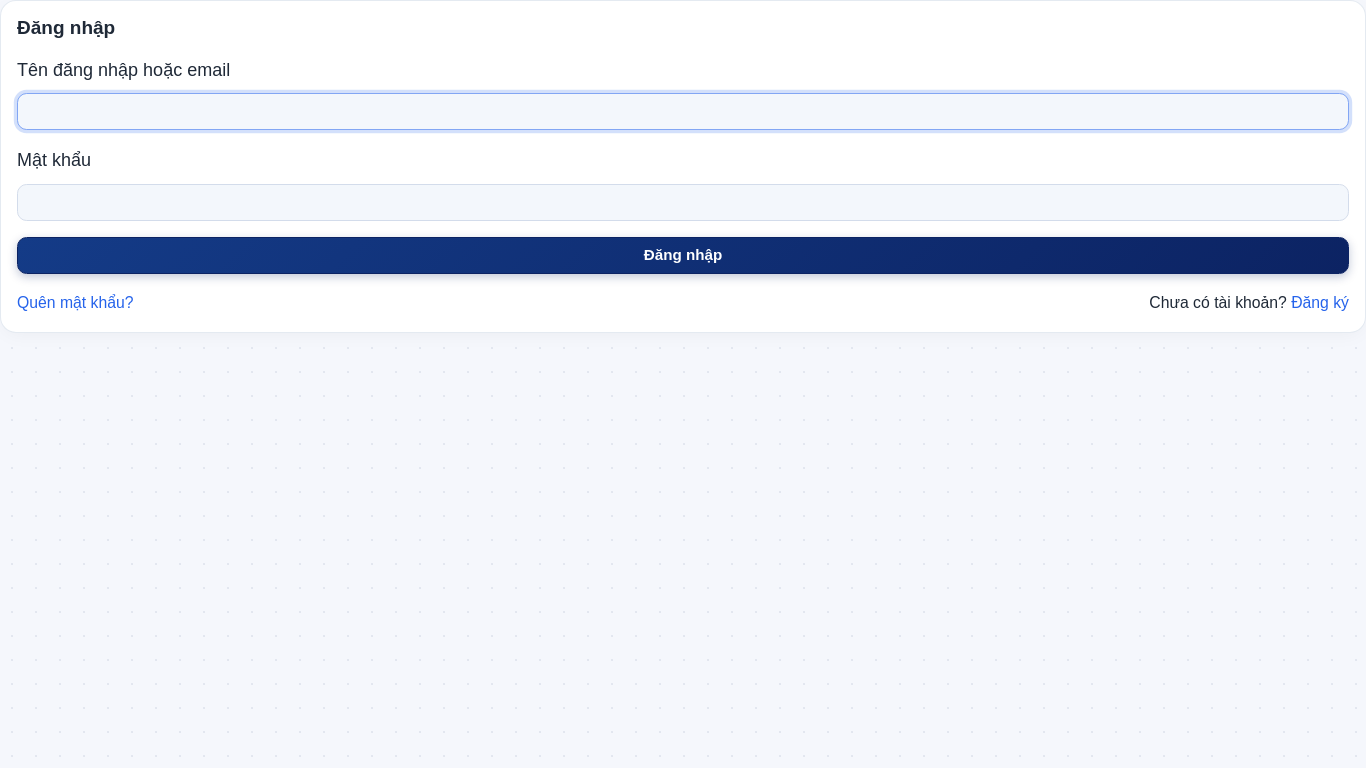
Test: LoginPage › hiển thị thông điệp theo mã lỗi INVALID_CREDENTIALS
This screenshot has width=1366, height=768.
In the field labelled "Tên đăng nhập hoặc email": (683, 112) [17,94,1349,130], type "student01"
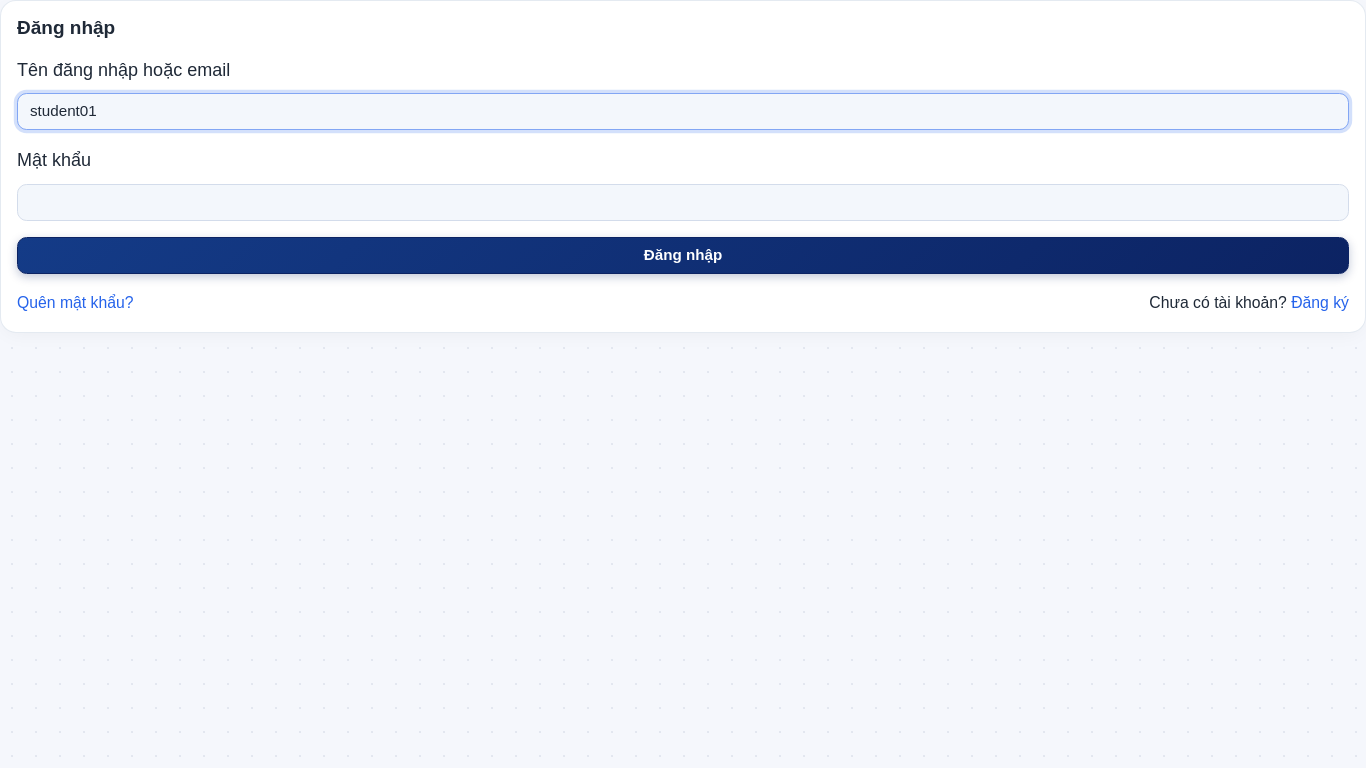
In the password field labelled "Mật khẩu": (683, 202) [17,184,1349,221], type "sai"
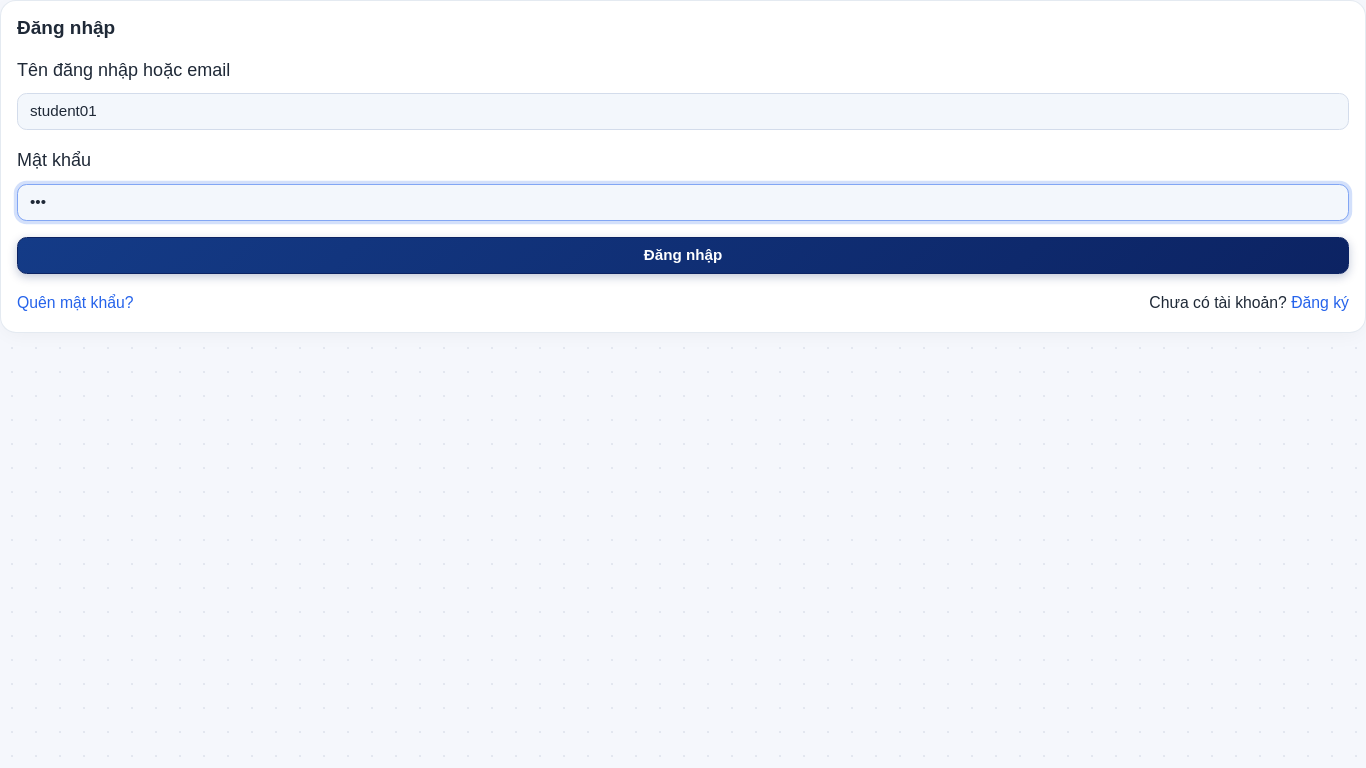
Click the button "Đăng nhập": (683, 255) [17,237,1349,274]
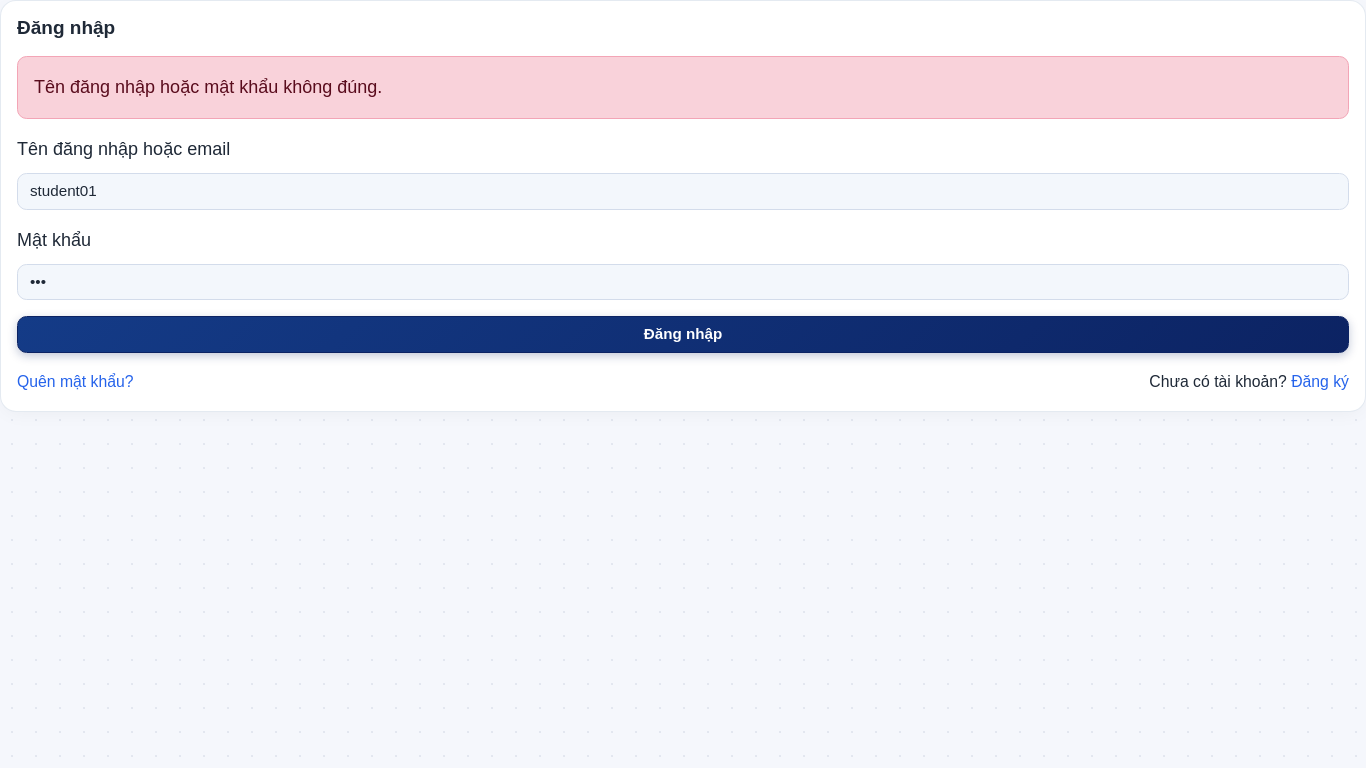
Check: the text "Tên đăng nhập hoặc mật khẩu không đúng." is shown, box [17,56,1349,120]
